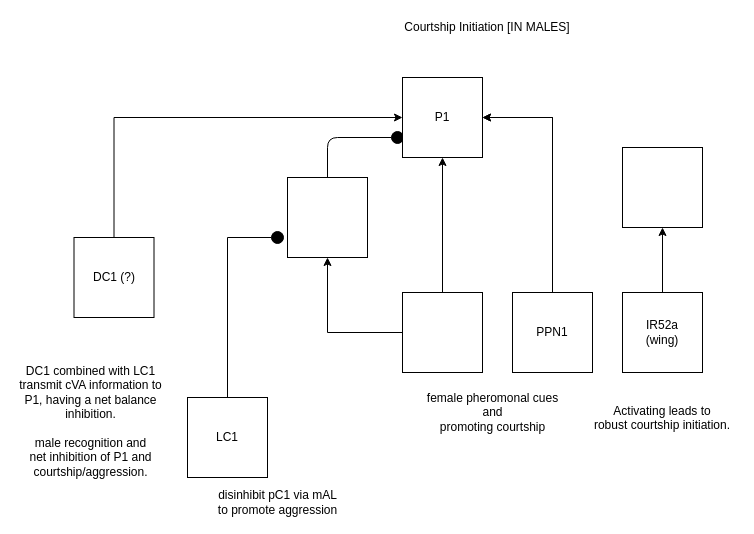
Image size: 754x534. Some labels were removed from this diagram. The box of each missing label's shape, as (x1, y1, x2, y2) in pixels:
mAL: (286, 176, 368, 258)
SEZ: (622, 146, 702, 228)
vAB3: (402, 292, 482, 372)
